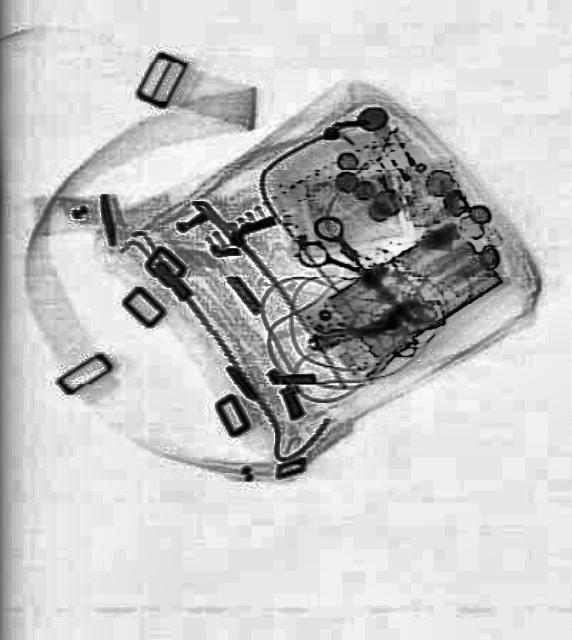Scissors: (288, 206, 404, 316)
